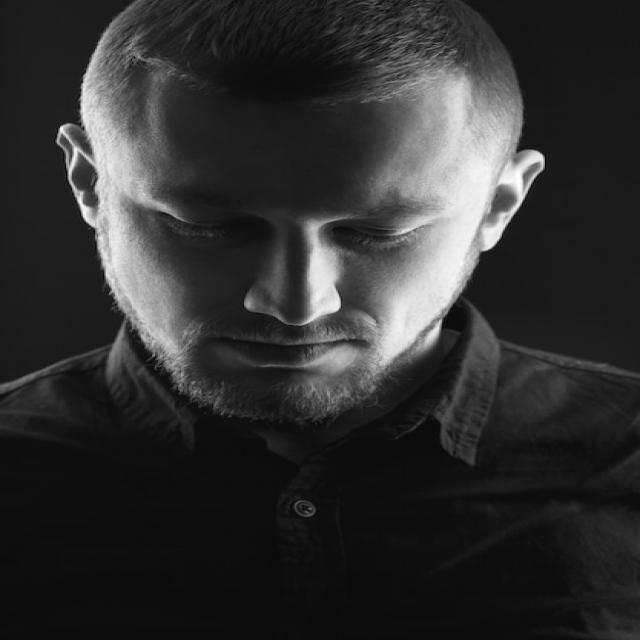real: (58, 5, 545, 417), (131, 170, 472, 256)
